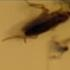cockroach: (22, 7, 70, 38)
